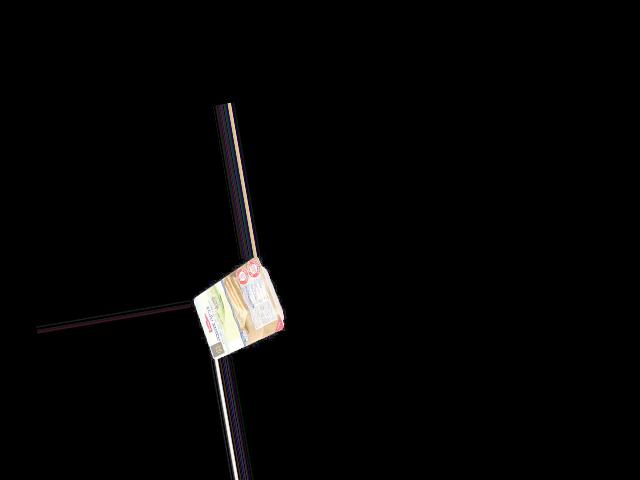cheese: (191, 268, 285, 353)
